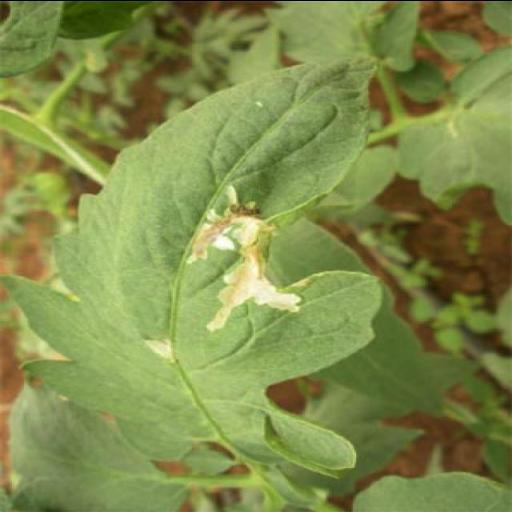disease_tomato: (0, 51, 379, 473)
